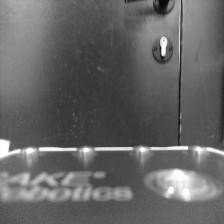Door Handle: (125, 0, 178, 15)
Lock: (152, 36, 175, 64)
